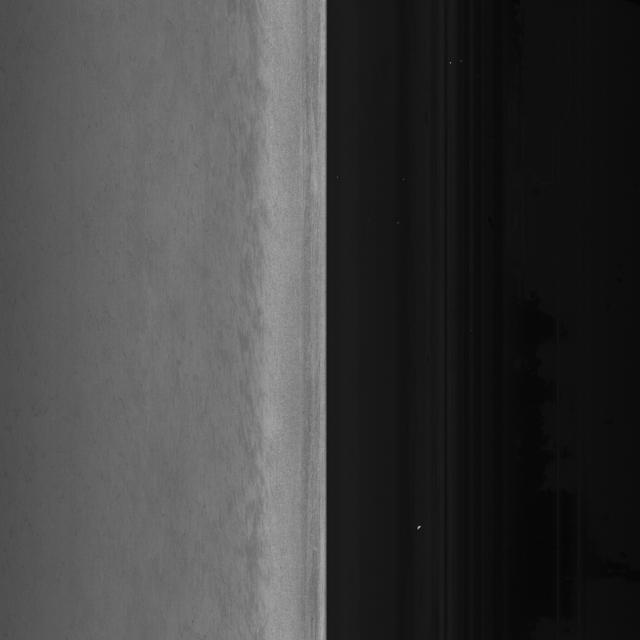inclusion: (220, 274, 274, 446)
